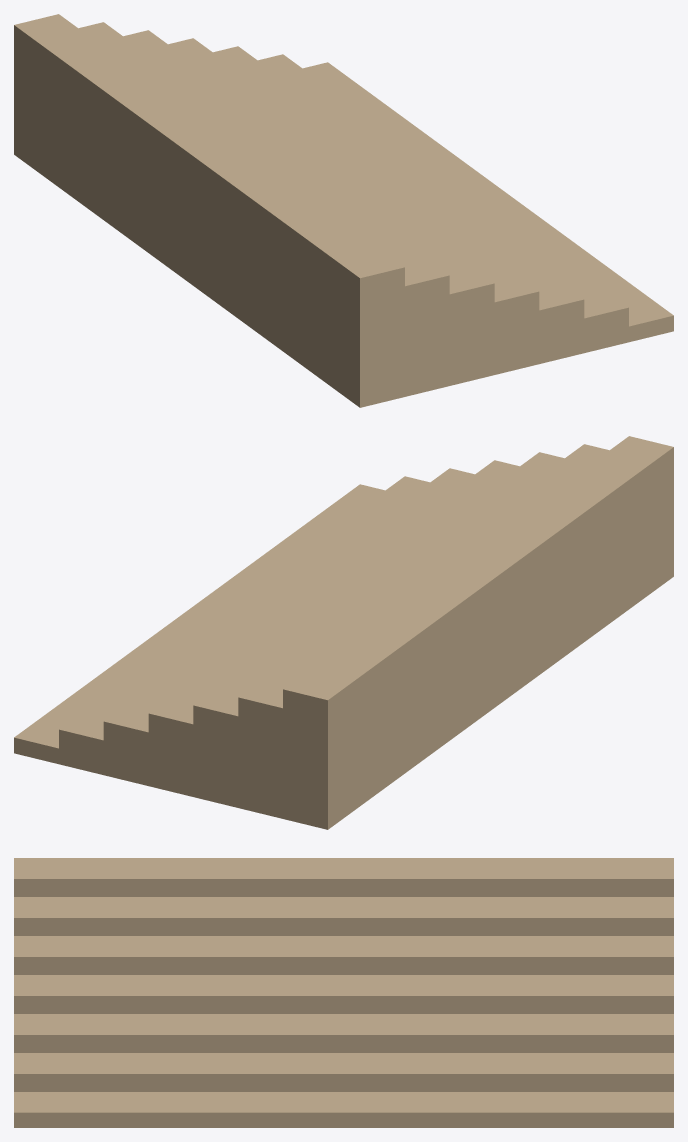
Rendered from SM_stairs_01.fbx.
The picture shows the model from 3 angles, top to bottom: view 1: azimuth 30°, elevation 25°; view 2: azimuth 150°, elevation 25°; view 3: azimuth 270°, elevation 25°; orthographic projection. The views are drawn at different scales.
Parts seen in each view (by area): view 1: stairs_01; view 2: stairs_01; view 3: stairs_01.
Part boxes in pixels (left/top/right/bottom): stairs_01: left=14, top=14, right=673, bottom=407; stairs_01: left=14, top=436, right=673, bottom=829; stairs_01: left=14, top=858, right=673, bottom=1127.
Size of the model in its own units: 260 by 102 by 496.
